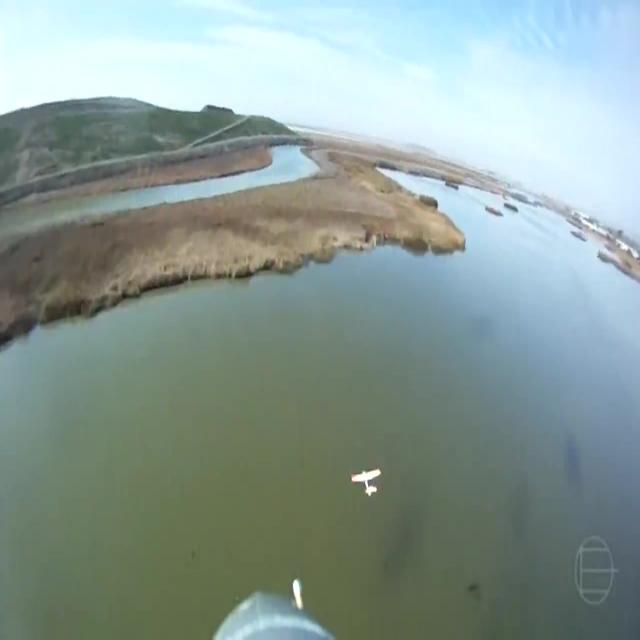iha: (348, 466, 383, 498)
